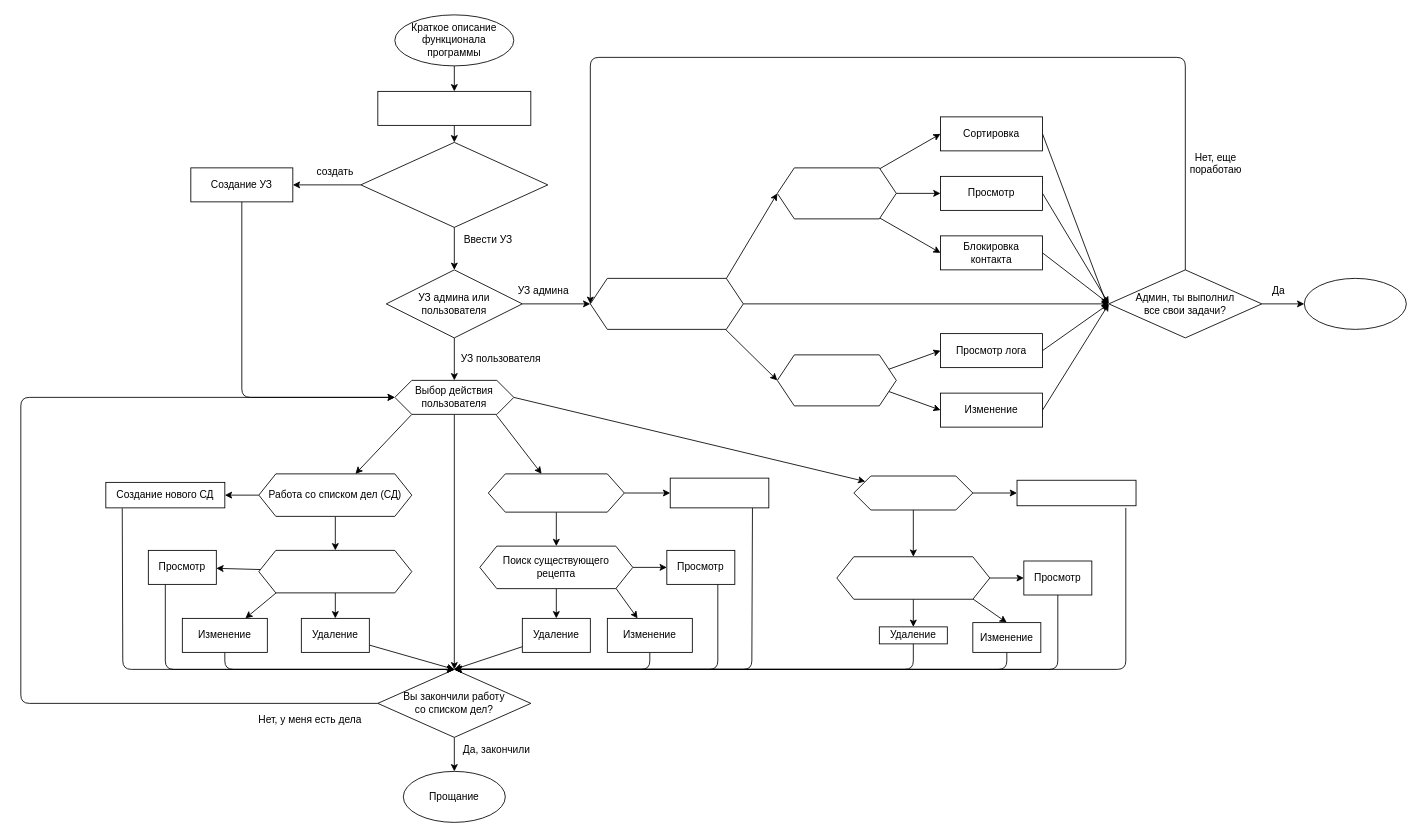
Image size: 1421x837. Some labels were removed from this diagram. The shapes that lost their labels are listed below. From the top down, each one's centre as x and y in pixels, then its label:
At point (454, 108): "Приветствие и предложение ввести имя пользователя (UN)".
At point (454, 184): "Ввести login/pass или создать новую учетную запись (УЗ)".
At point (836, 193): "Работа с базой".
At point (666, 303): "Выбор действия админа".
At point (1354, 303): "Прощание с админом".
At point (836, 380): "Работа с файлом лога".
At point (555, 492): "Работа со списком рецептов (СР)".
At point (719, 492): "Создание нового рецепта".
At point (913, 492): "Работа со списком покупок (СП)".
At point (1076, 492): "Создание нового СП".
At point (335, 571): "Поиск существующего СД".
At point (913, 577): "Поиск существующего СП".
